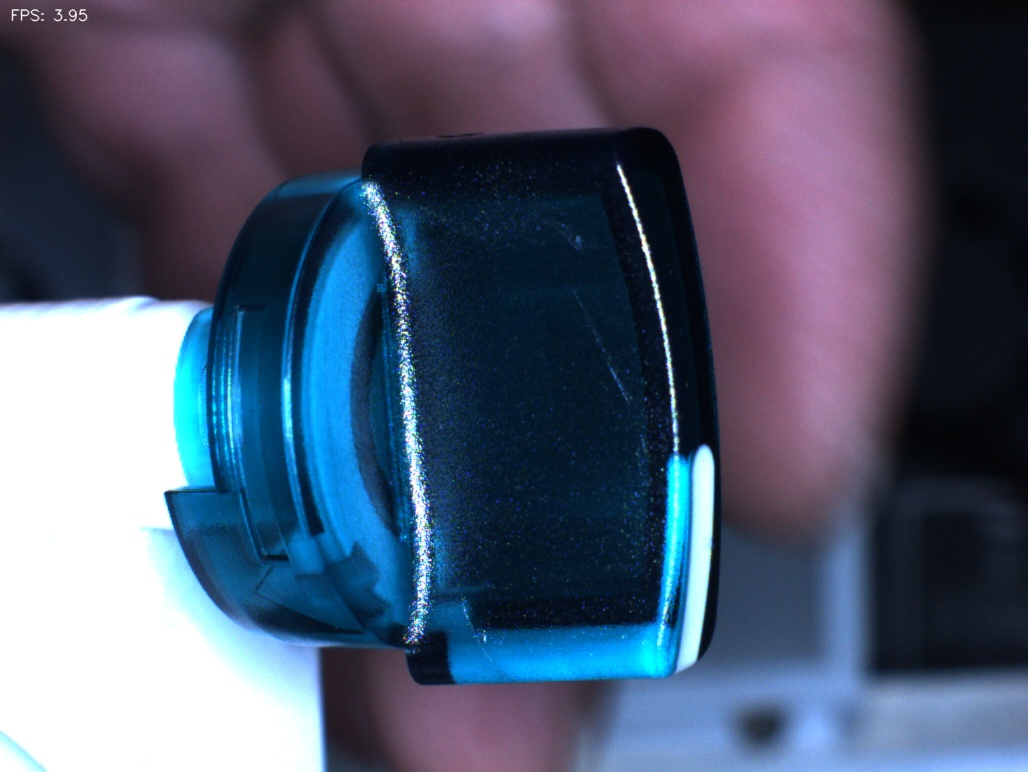Givrage: (557, 283, 654, 458)
